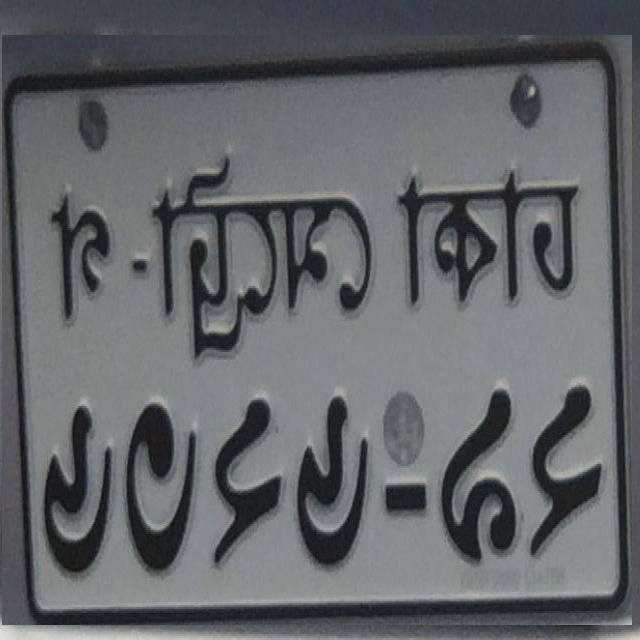numberplate: (2, 35, 632, 625)
